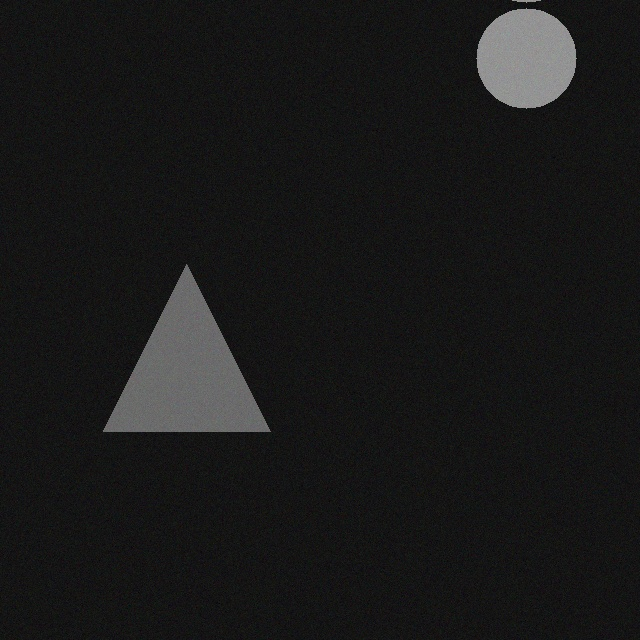circle: (464, 3, 564, 103)
triangle: (91, 259, 258, 426)
